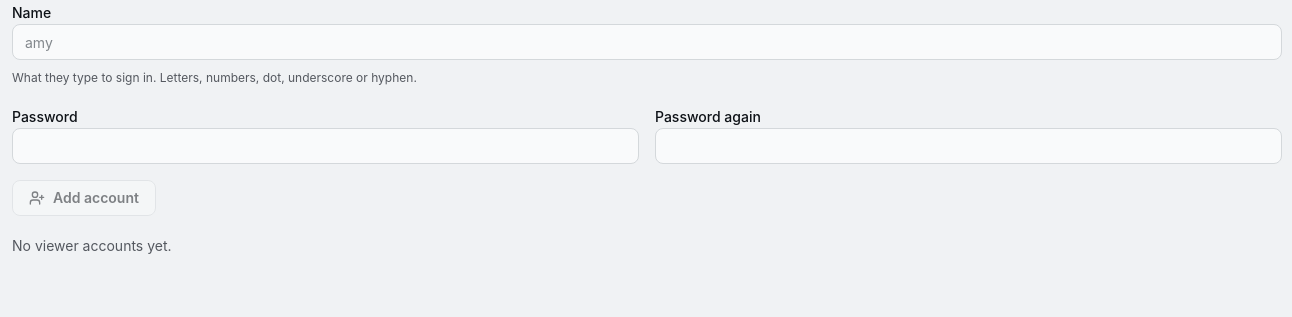
AccountsManager › adds an account once the two passwords match and are long enough
This screenshot has width=1292, height=317.
Type "tom" into the field labelled "Name" at (647, 42), box top-left (12, 24), bottom-right (1282, 60)
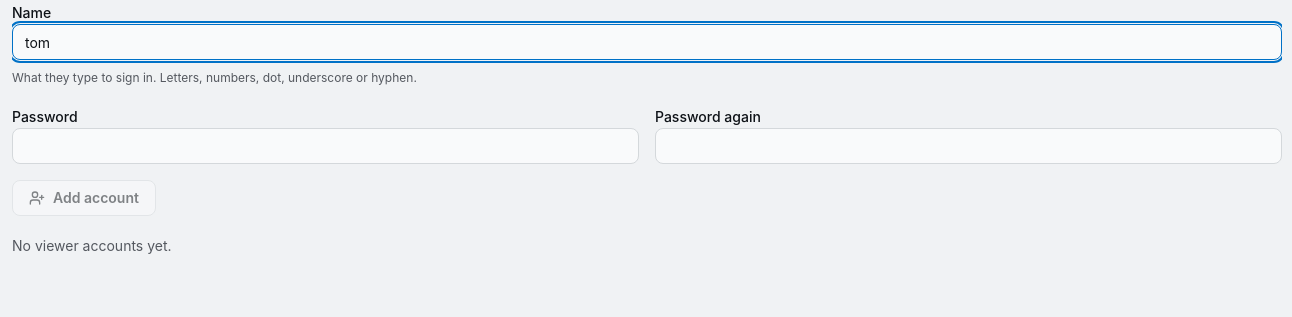
Type "short" into the password field labelled "Password" at (326, 146), box top-left (12, 128), bottom-right (639, 164)
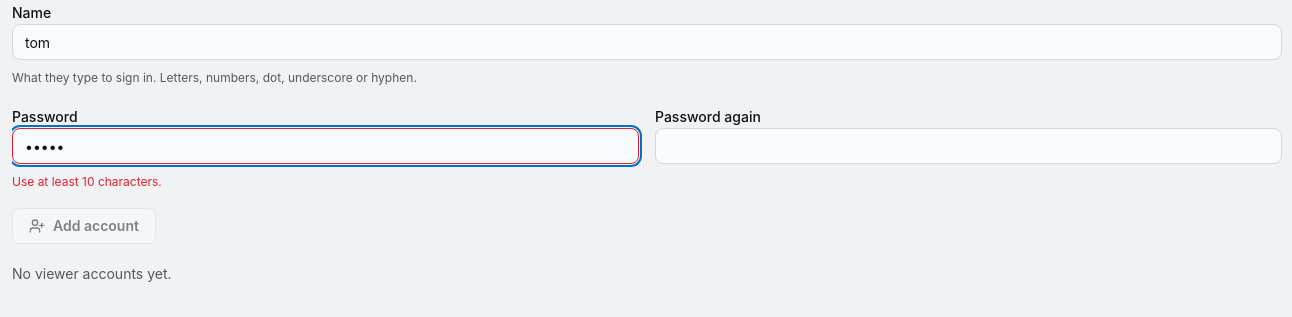
Expected: the button "Add account" is disabled, top-left (12, 208), bottom-right (156, 244)
Type "-but-now-long" into the password field labelled "Password" at (326, 146), box top-left (12, 128), bottom-right (639, 164)
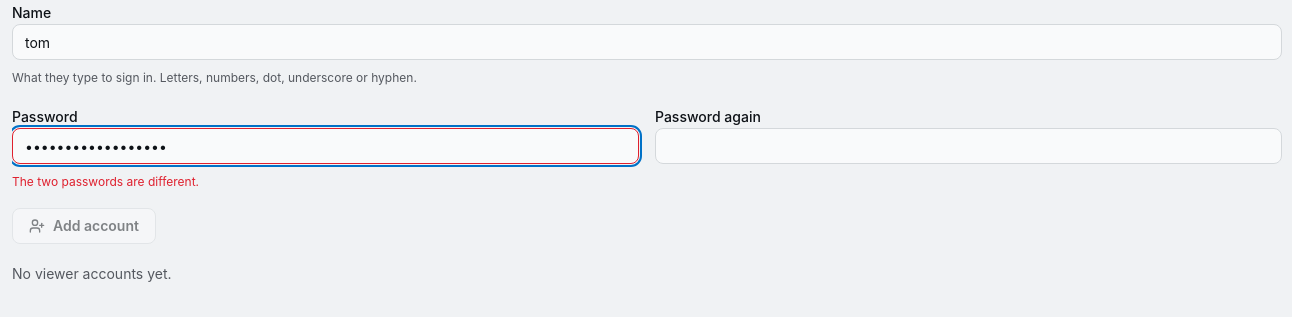
Type "short-but-now-long" into the password field labelled "Password again" at (968, 146), box top-left (655, 128), bottom-right (1282, 164)
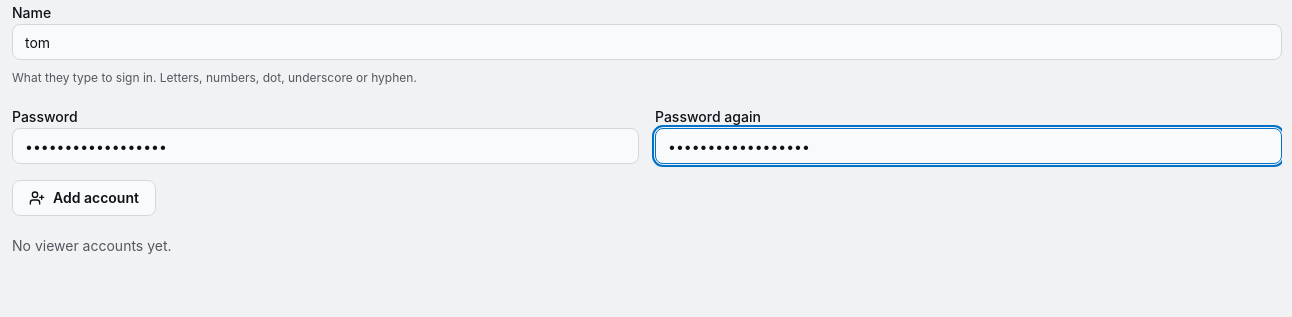
Now the button "Add account" is enabled
Click the button "Add account" at (84, 198), box top-left (12, 180), bottom-right (156, 216)
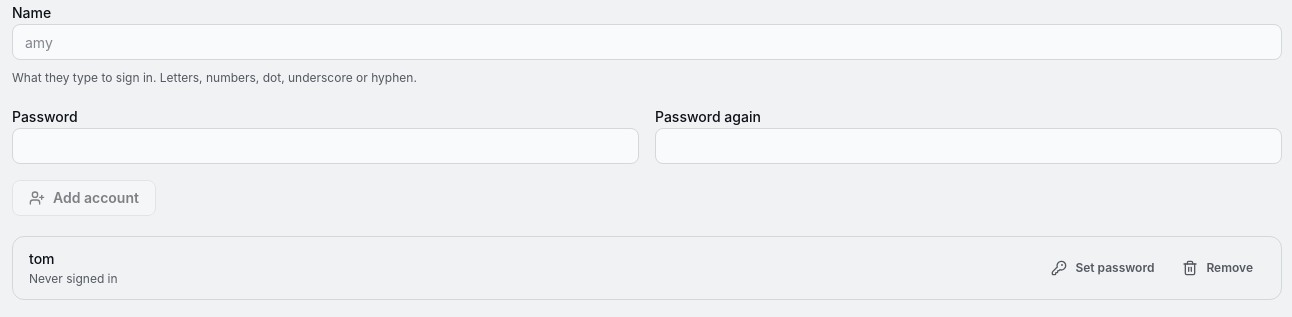
Now the text "tom" is shown, box top-left (29, 250), bottom-right (54, 267)
